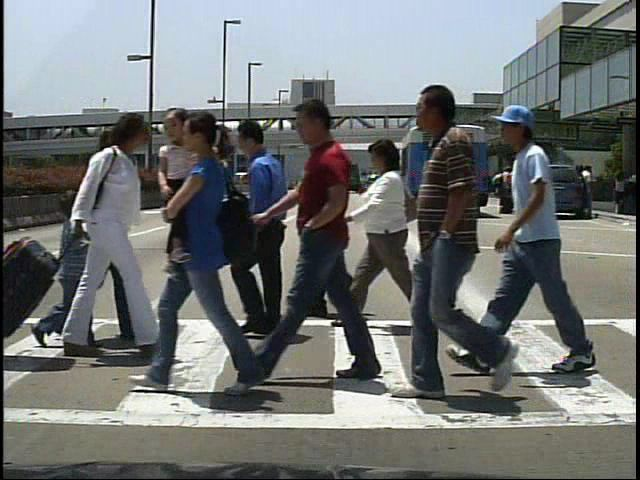person: (405, 84, 529, 420), (54, 113, 165, 363), (291, 94, 375, 385), (214, 122, 313, 346), (498, 102, 578, 378), (344, 136, 441, 334), (296, 130, 369, 322), (77, 115, 132, 361), (26, 195, 94, 356), (582, 167, 602, 218), (496, 165, 514, 218), (508, 166, 527, 215)
